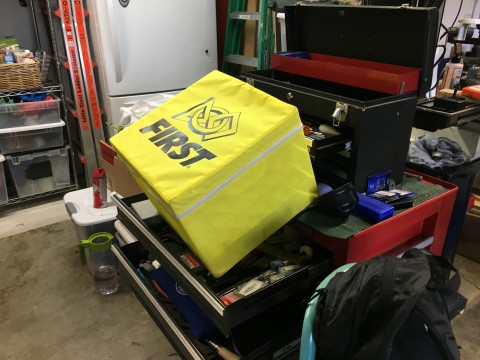cube: (110, 70, 320, 278)
